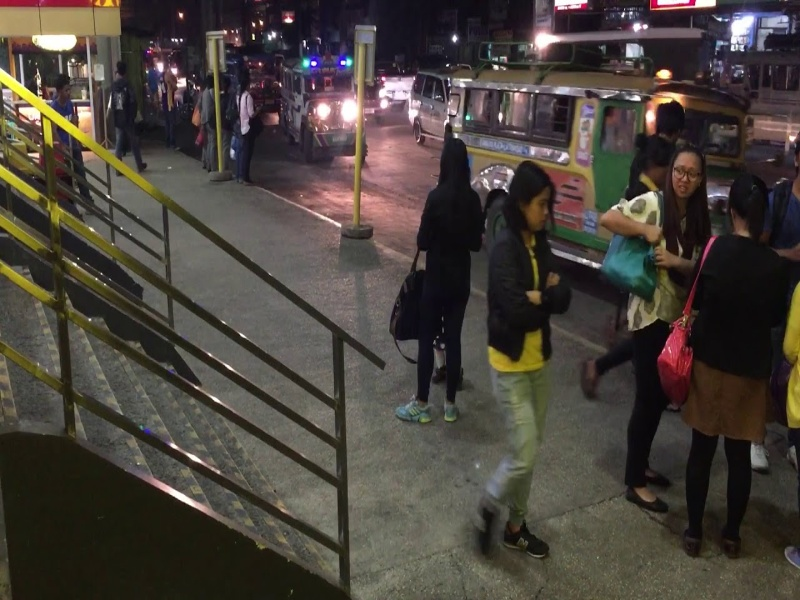person: (656, 169, 792, 560), (596, 144, 718, 525), (471, 155, 577, 572), (384, 134, 487, 425), (103, 56, 150, 178), (229, 68, 271, 192)
